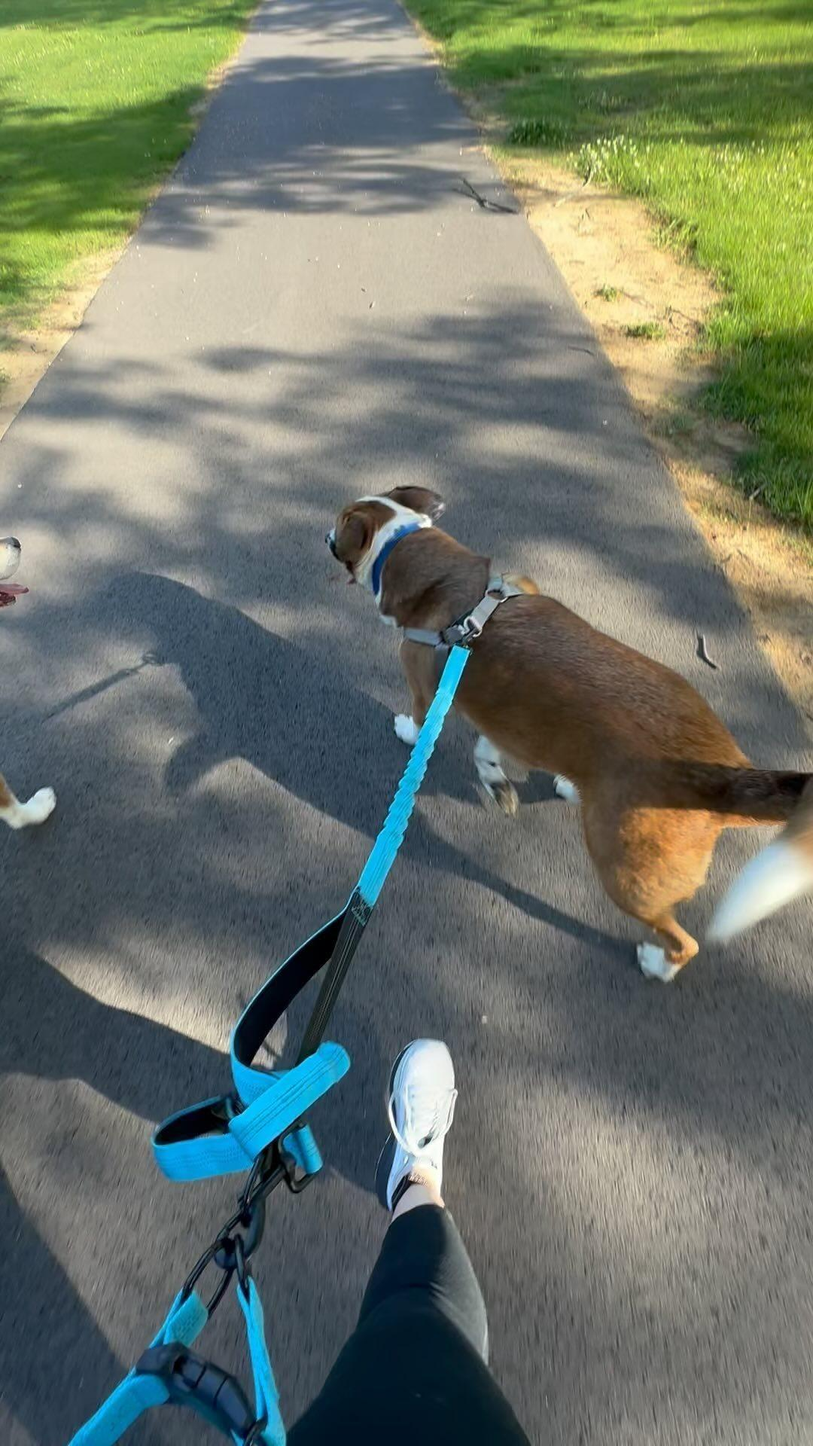adult_dog: (323, 483, 813, 981), (0, 535, 62, 831)
non-dog: (286, 1036, 534, 1446)
